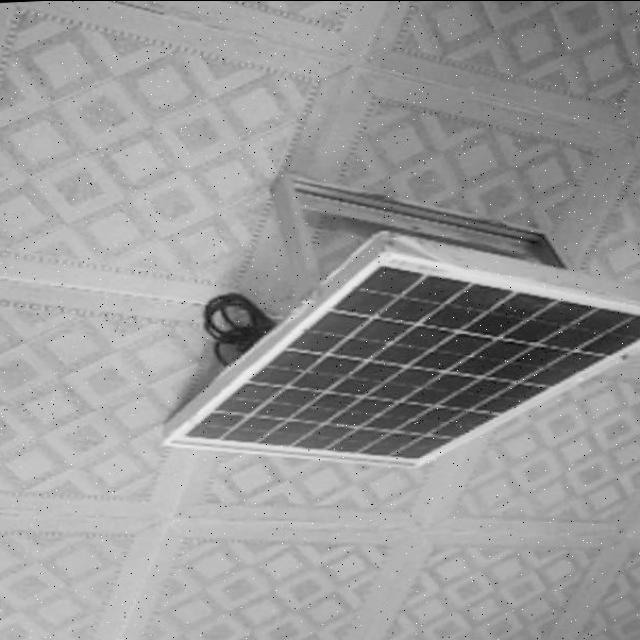Normal Solar Panel: (156, 220, 640, 471)
